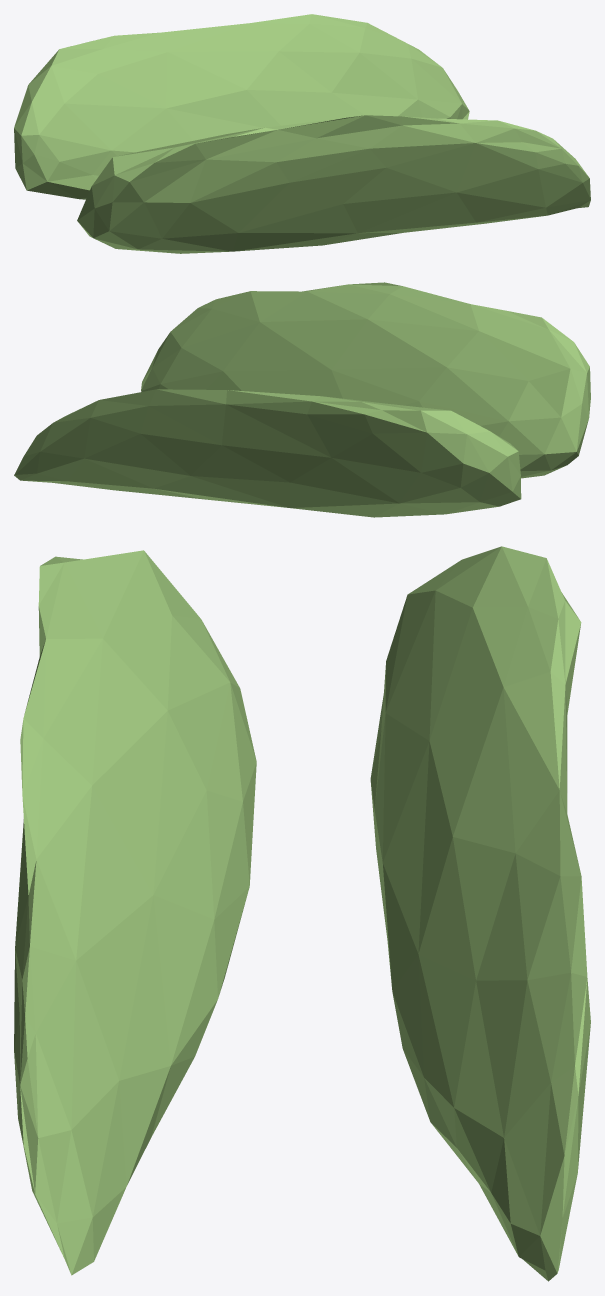
3 renders of one model, top to bottom at view 1: azimuth 30°, elevation 25°; view 2: azimuth 150°, elevation 25°; view 3: azimuth 270°, elevation 25°, orthographic. The views are drawn at different scales.
Parts seen in each view (by area): view 1: 982.obj; view 2: 982.obj; view 3: 982.obj.
Part boxes in pixels (bbox=[...]): 982.obj: bbox=[14, 14, 590, 253]; 982.obj: bbox=[14, 282, 590, 517]; 982.obj: bbox=[14, 546, 590, 1281].
Size of the model in its own units: 886 by 300 by 468.
